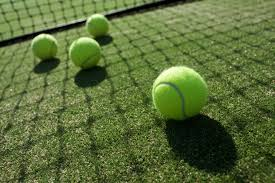tennis_ball: (152, 65, 208, 122), (67, 36, 102, 70), (30, 32, 60, 62), (85, 12, 109, 38)
